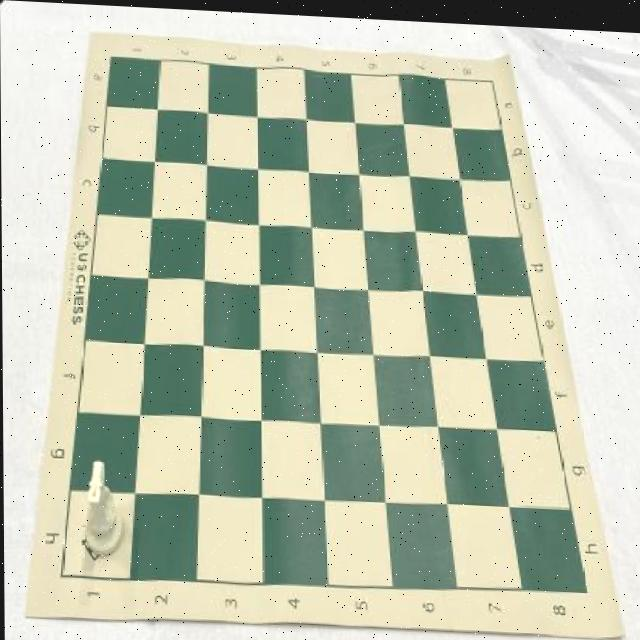white-king: (83, 460, 124, 559)
